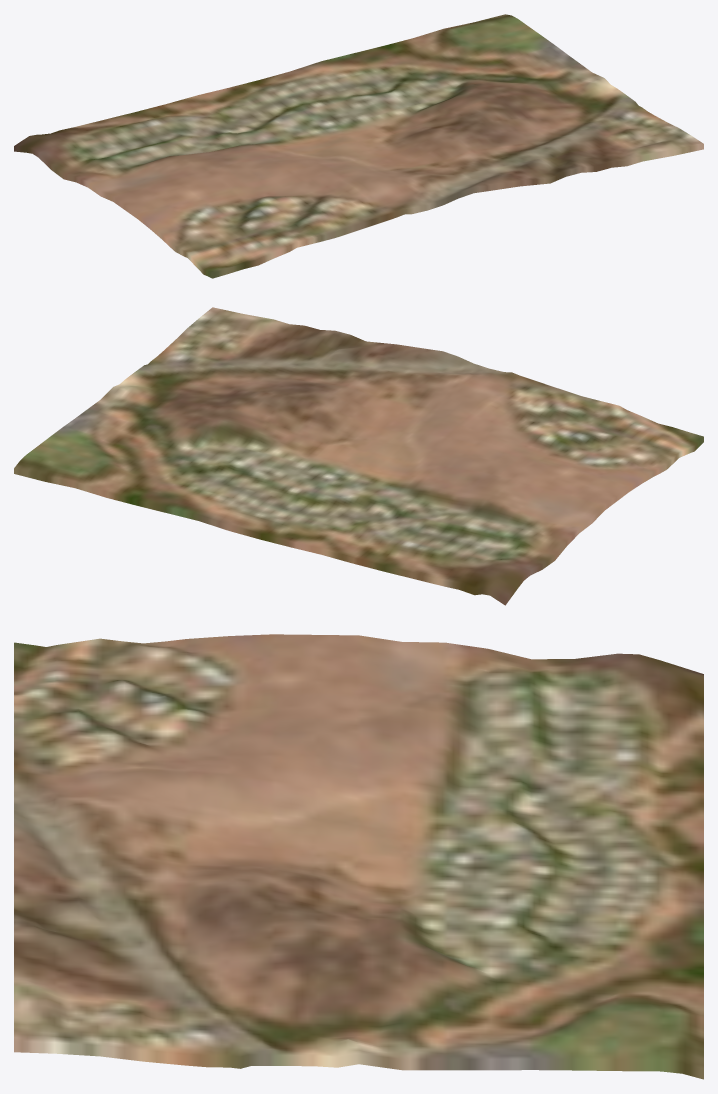
The model's file is terrain_r6_c4_lod2.glb.
3 renders of one model, top to bottom at view 1: azimuth 30°, elevation 25°; view 2: azimuth 150°, elevation 25°; view 3: azimuth 270°, elevation 25°, orthographic. The views are drawn at different scales.
Visible parts, largest first — view 1: terrain_r6_c4_lod2; view 2: terrain_r6_c4_lod2; view 3: terrain_r6_c4_lod2.
Boxes of the visible parts, x1,y1,x2,y2 form: terrain_r6_c4_lod2: (14,14,703,278); terrain_r6_c4_lod2: (14,307,703,605); terrain_r6_c4_lod2: (14,634,703,1079).
Bounding box in the file's own units: 1125 × 99.3 × 787.
Materials: 1 (1 with a texture image).
